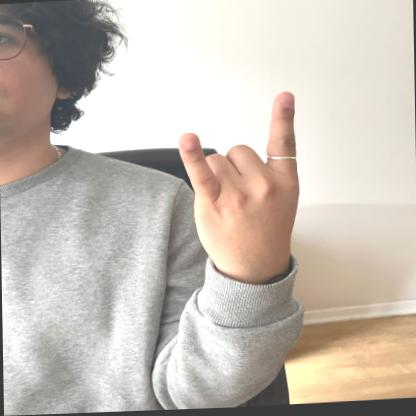U: (171, 88, 306, 269)
